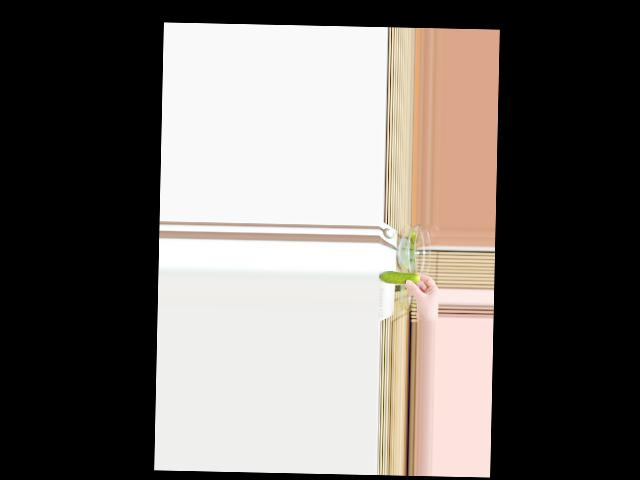cucumber: (379, 270, 420, 284)
